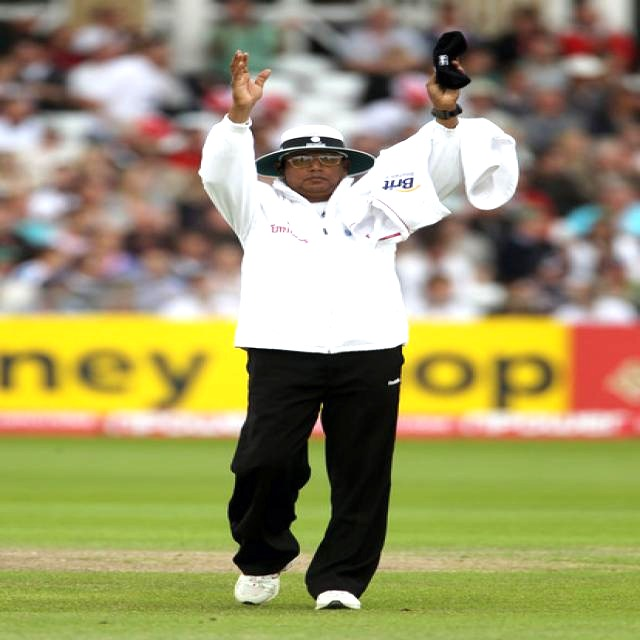Six: (173, 13, 527, 606)
